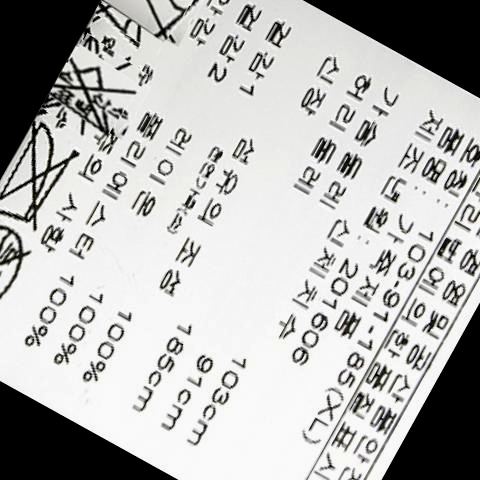DN_bleach: (49, 59, 134, 127)
DN_iron: (1, 131, 79, 223)
